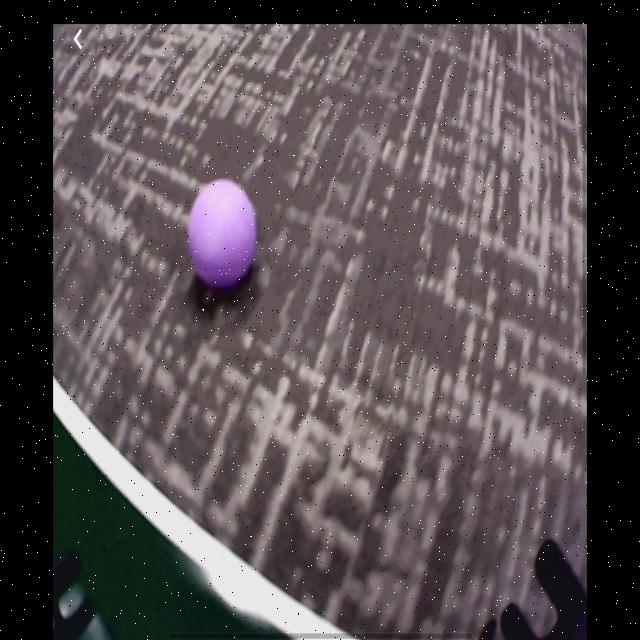ball: (188, 180, 256, 288)
